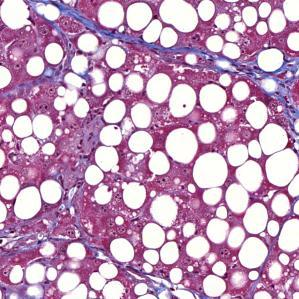fibrosis: (198, 52, 298, 84)
